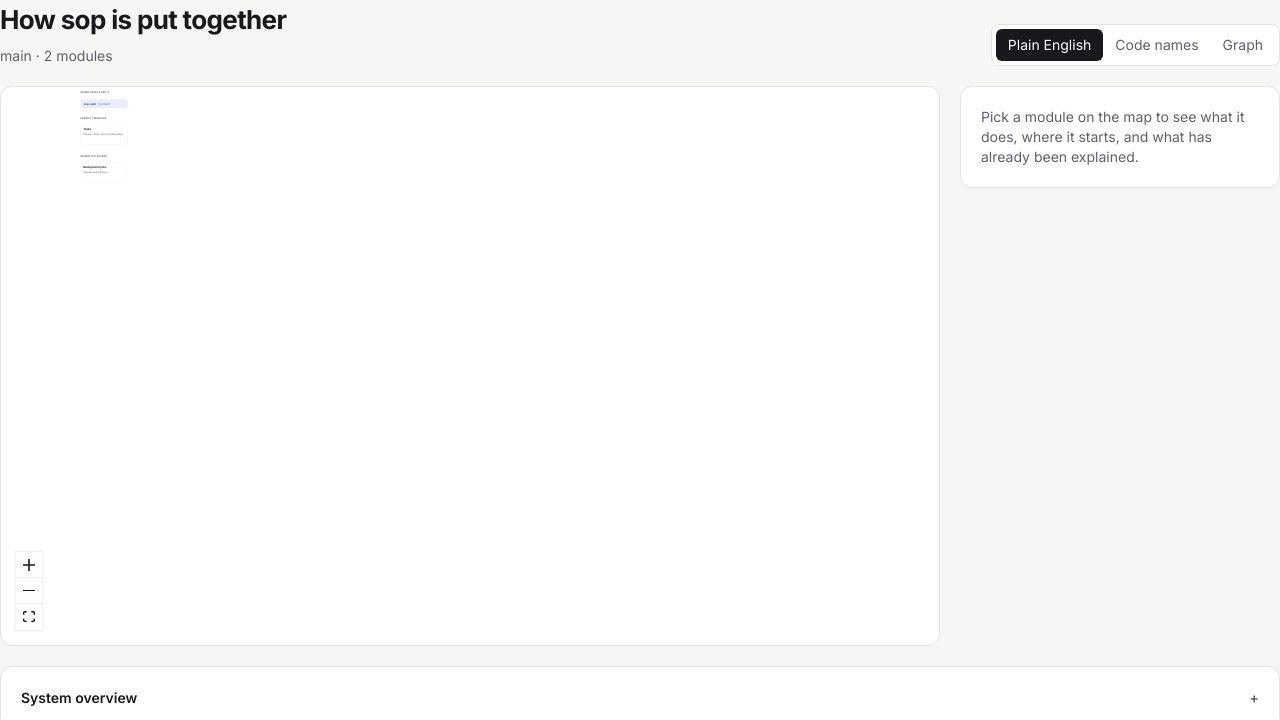
Scenario: graph_legend_names_rest_and_broker_links_present
Click the radio button labelled "Graph" at (1243, 45), box [1211,29,1275,61]
(page scrolled)
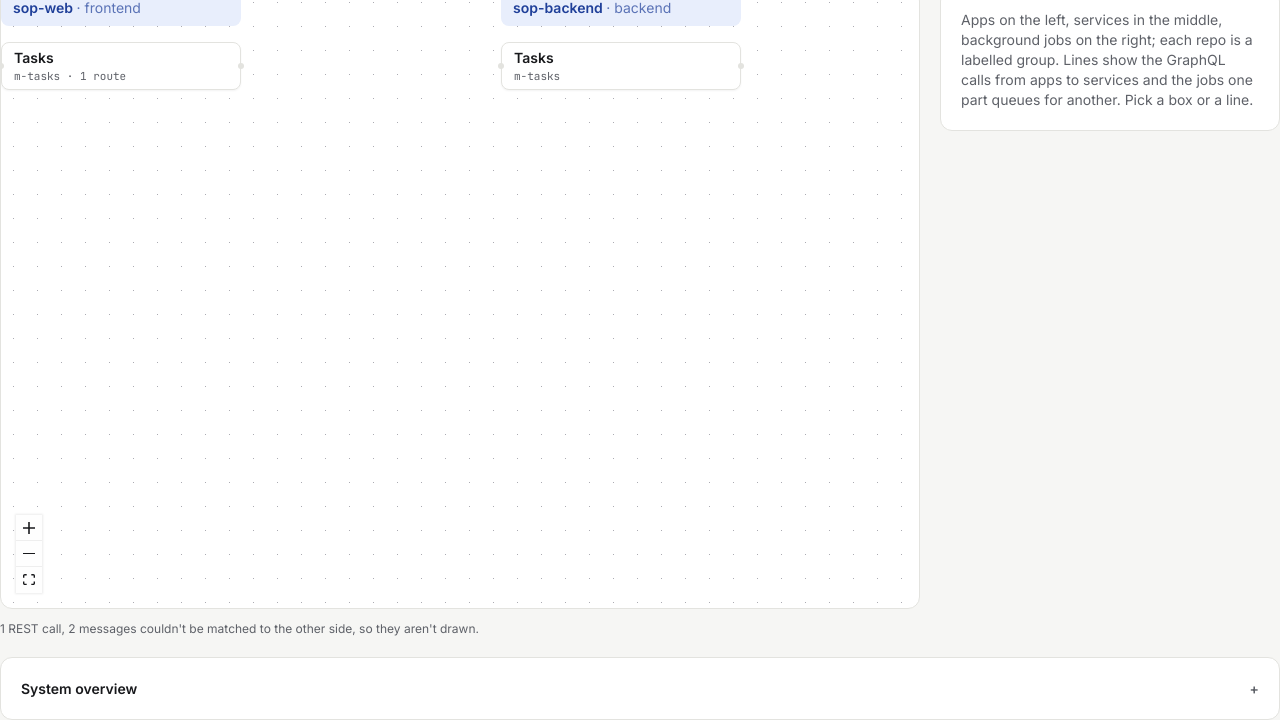
Now the text "1 REST call, 2 messages couldn't be matched" is shown, box [0,621,479,636]
